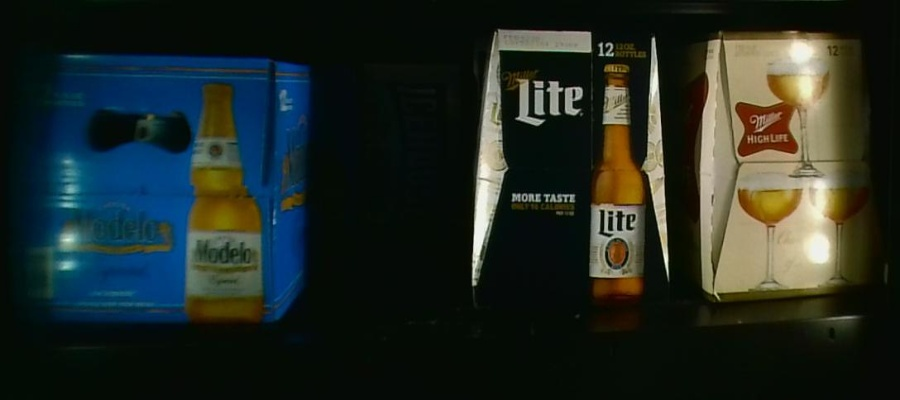bottle: (7, 54, 313, 330), (470, 28, 677, 308), (684, 28, 881, 305), (328, 59, 463, 271)
